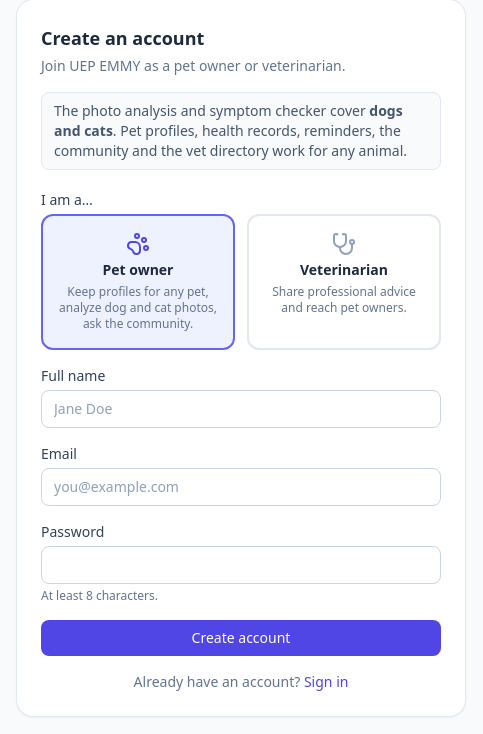
signing up no longer signs you in › shows 'check your email' instead of going to the dashboard
In the field labelled "Full name": coordinates (241, 409) [41,390,441,428], type "Alex"
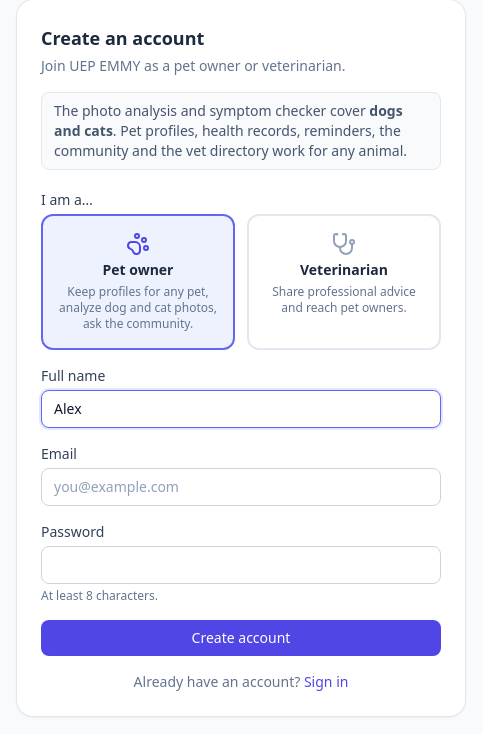
In the field labelled "Email": coordinates (241, 487) [41,468,441,506], type "alex@example.com"
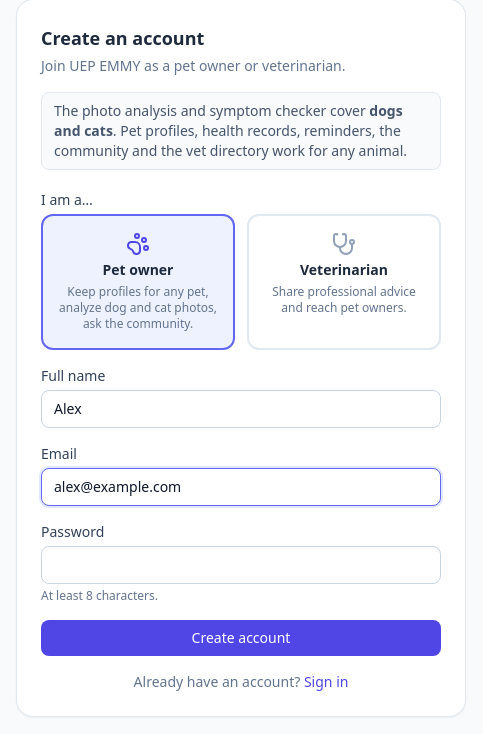
In the password field labelled "Password": coordinates (241, 565) [41,546,441,584], type "hunter2hunter2"
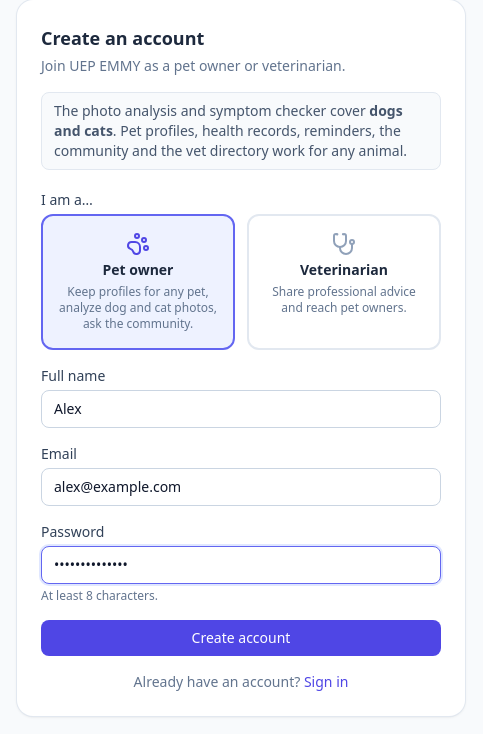
Click the button "Create account": coordinates (241, 638) [41,620,441,656]
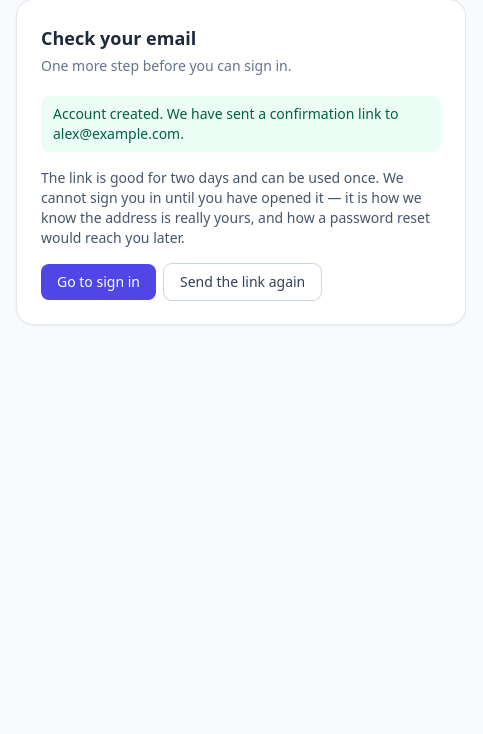
Now the heading "Check your email" is shown, box [41,26,196,50]
Now the message shows "confirmation link to alex@example.com", box [53,104,399,143]
